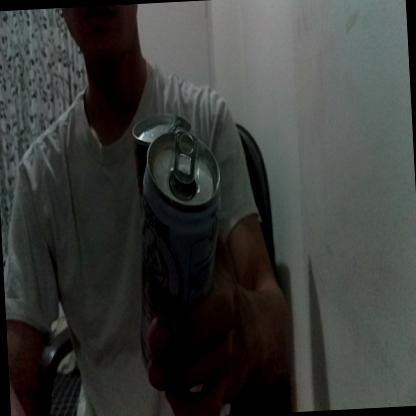alumunium_can: (131, 110, 228, 372)
